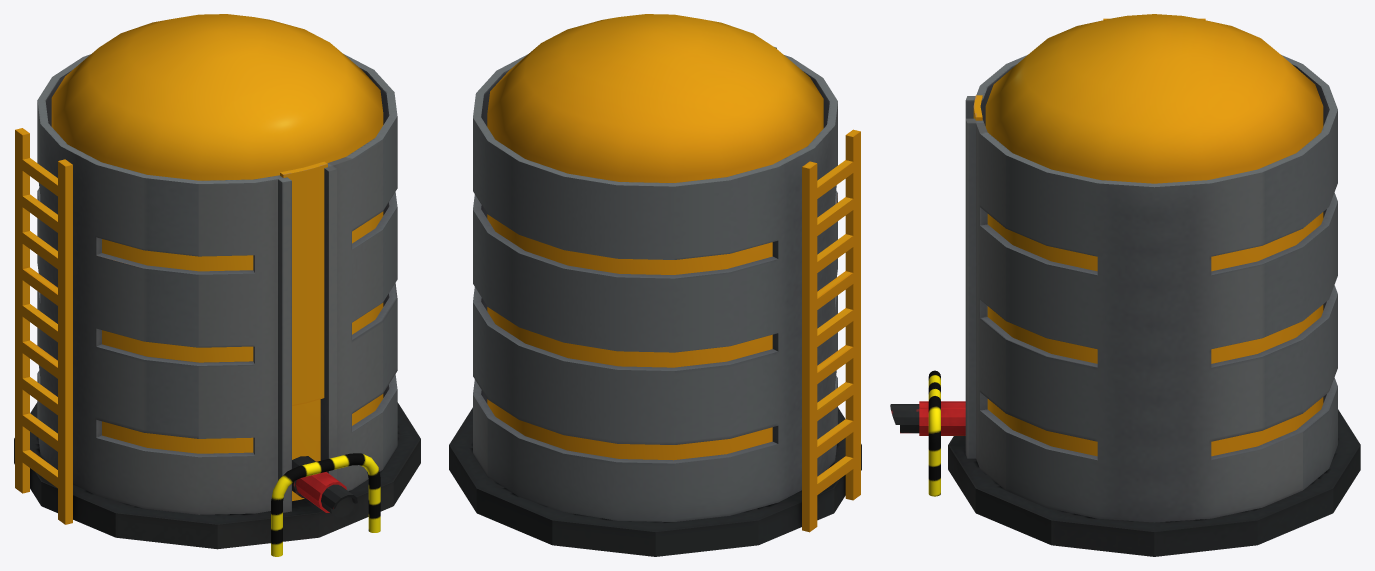
File: Chem_reactorB.fbx
The picture shows the model from 3 angles, left to right: view 1: azimuth 30°, elevation 25°; view 2: azimuth 150°, elevation 25°; view 3: azimuth 270°, elevation 25°; orthographic projection.
Parts seen in each view (by area): view 1: ReactorB; view 2: ReactorB; view 3: ReactorB.
Boxes of the visible parts, x1,y1,x2,y2 form: ReactorB: [14, 14, 420, 556]; ReactorB: [449, 14, 861, 556]; ReactorB: [890, 14, 1360, 556].
Bounding box in the file's own units: 4.06 × 4.72 × 4.61.
Materials: 1 (1 with a texture image).
